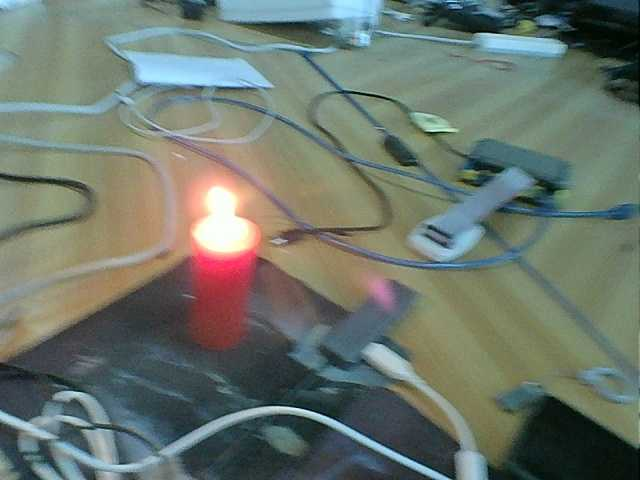candle: (189, 247, 260, 351)
fire: (196, 185, 254, 247)
